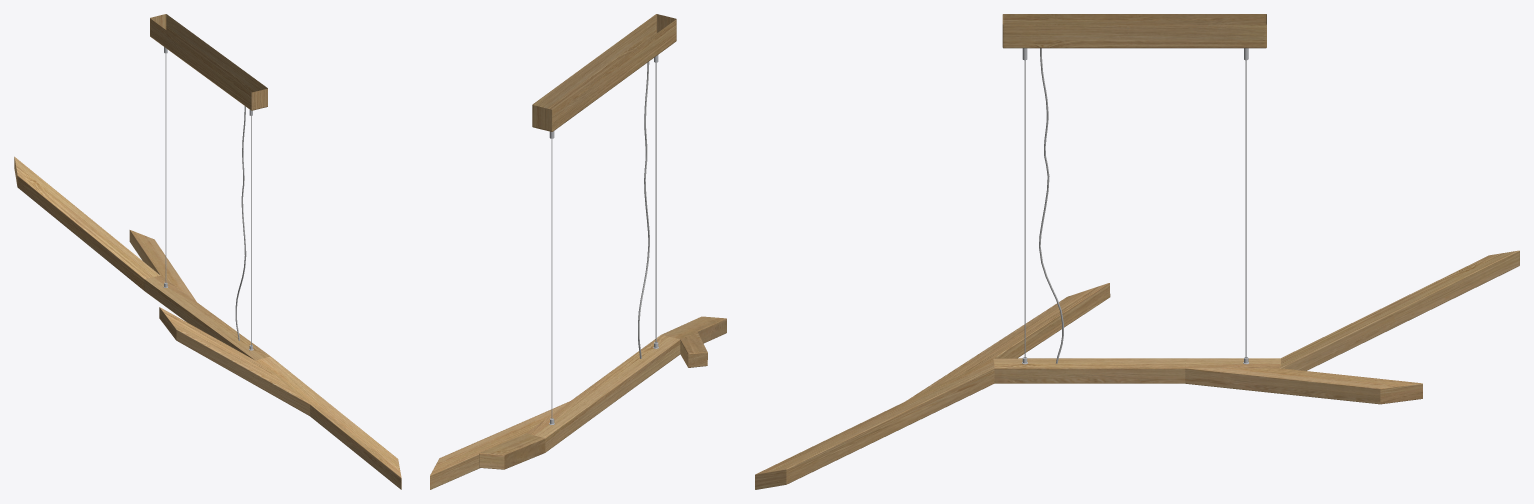
The model's file is pendant.obj.
3 renders of one model, left to right at view 1: azimuth 30°, elevation 25°; view 2: azimuth 150°, elevation 25°; view 3: azimuth 270°, elevation 25°, orthographic. The views are drawn at different scales.
Visible parts, largest first — view 1: LIGHT_PENDANT; view 2: LIGHT_PENDANT; view 3: LIGHT_PENDANT.
Part boxes in pixels (x1,y1,x2,y2): LIGHT_PENDANT: (14, 14, 401, 489); LIGHT_PENDANT: (430, 14, 726, 489); LIGHT_PENDANT: (755, 14, 1519, 489).
Size of the model in its own units: 0.36 by 1.03 by 1.61.
